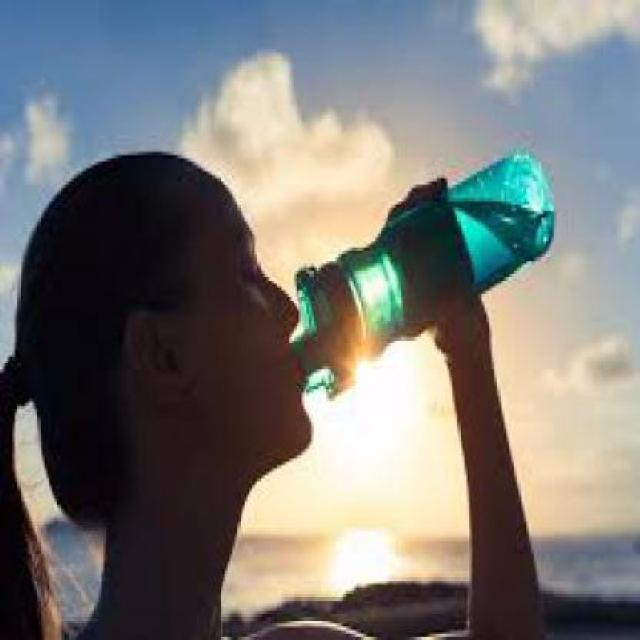Drinking: (296, 138, 564, 377)
